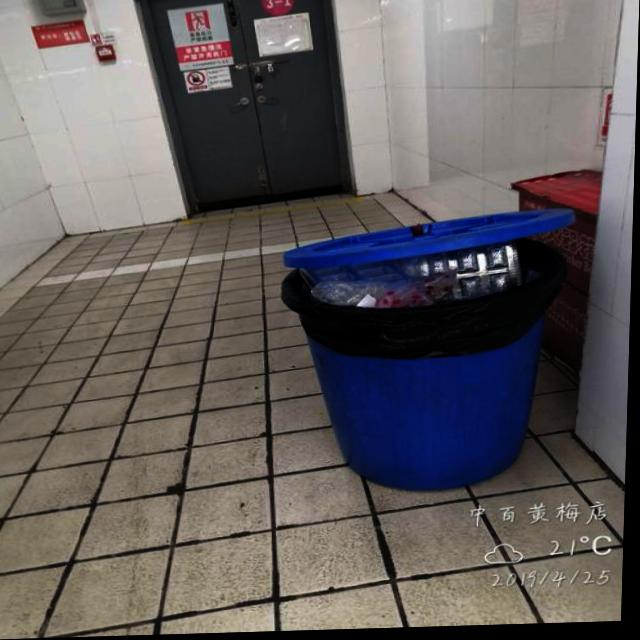overflow: (277, 211, 576, 496)
